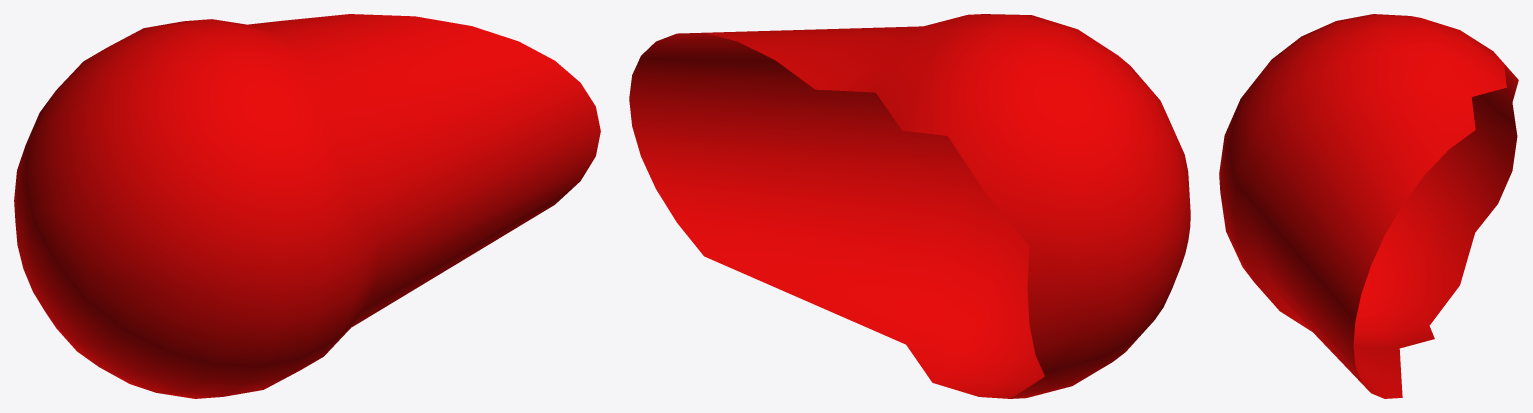
File: rafale_highlight_04_OSF1.fbx
The picture shows the model from 3 angles, left to right: view 1: azimuth 30°, elevation 25°; view 2: azimuth 150°, elevation 25°; view 3: azimuth 270°, elevation 25°; orthographic projection. The views are drawn at different scales.
Parts seen in each view (by area): view 1: rafale_highlight_04_OSF1; view 2: rafale_highlight_04_OSF1; view 3: rafale_highlight_04_OSF1.
Part boxes in pixels (box(x1,y1,x2,y2)): rafale_highlight_04_OSF1: box(14, 14, 600, 398); rafale_highlight_04_OSF1: box(629, 14, 1190, 398); rafale_highlight_04_OSF1: box(1219, 14, 1518, 398).
Bounding box in the file's own units: 9.86 × 6 × 5.34.
